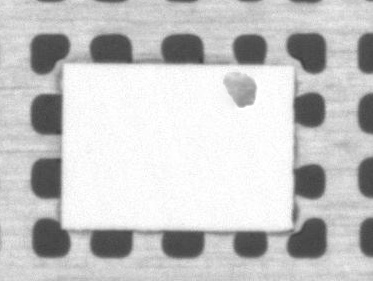DIE_INK: (220, 69, 258, 107)
